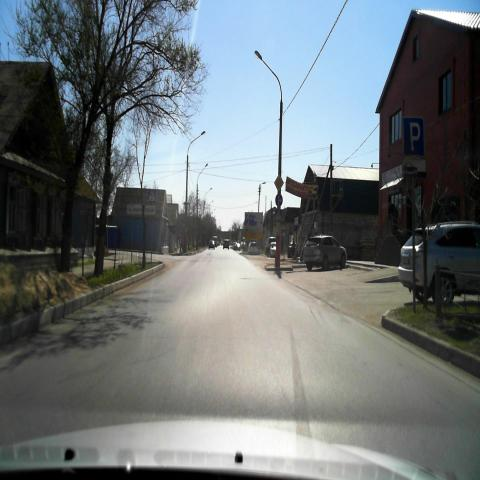2_1: (274, 175, 284, 192)
